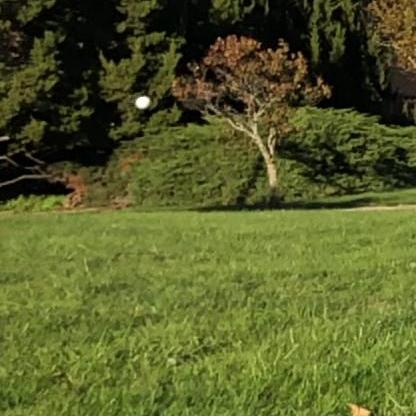golfball: (132, 92, 149, 107)
